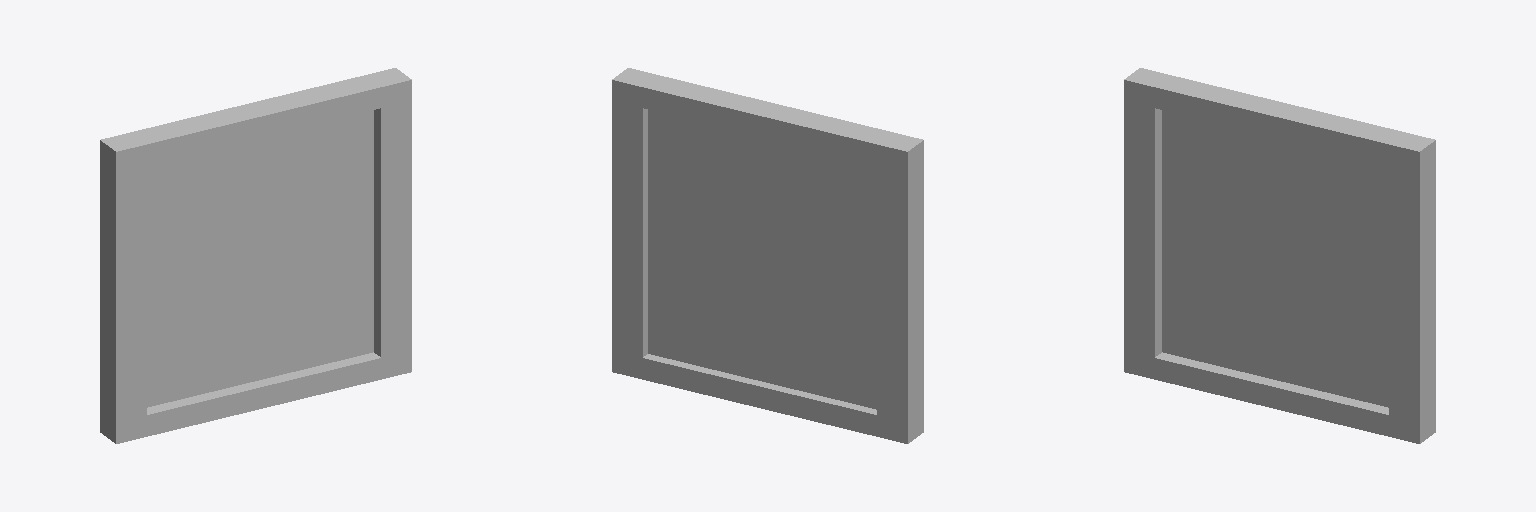
The model's file is doorClosed.obj.
3 renders of one model, left to right at view 1: azimuth 30°, elevation 25°; view 2: azimuth 150°, elevation 25°; view 3: azimuth 330°, elevation 25°, orthographic.
Bounding box in the file's own units: 25 × 23.61 × 2.41.